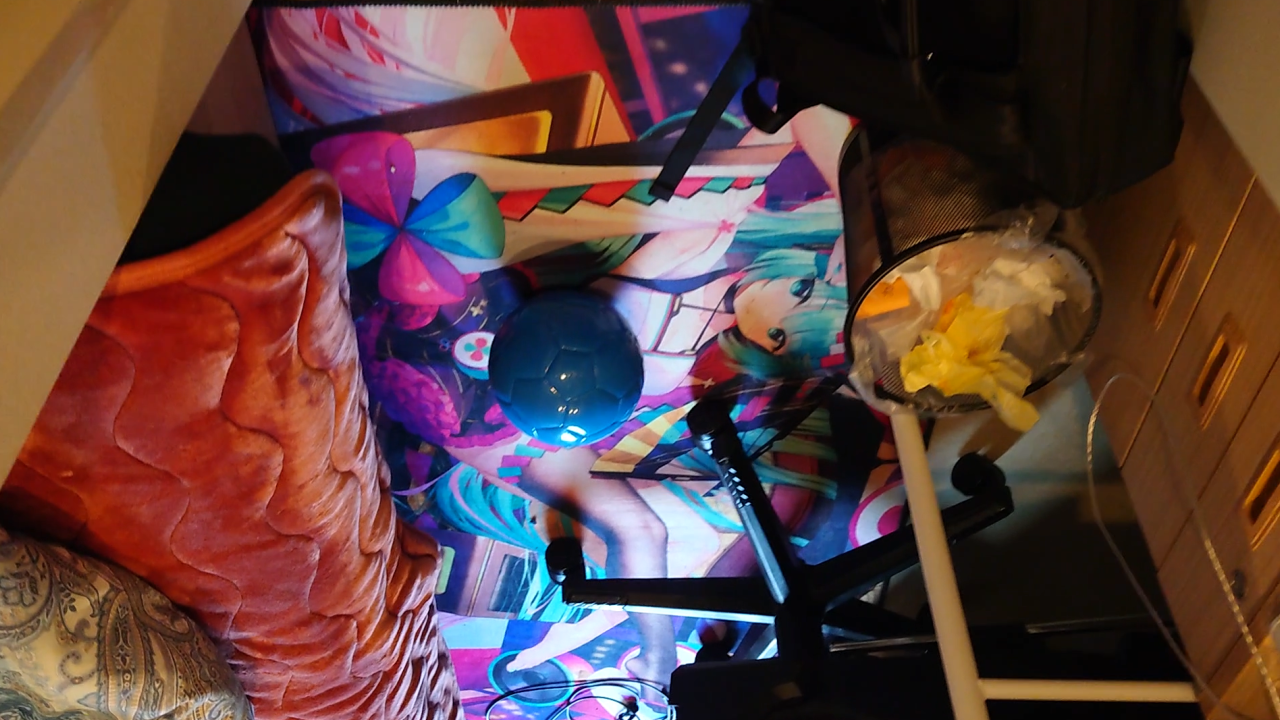blue: (487, 304, 645, 448)
